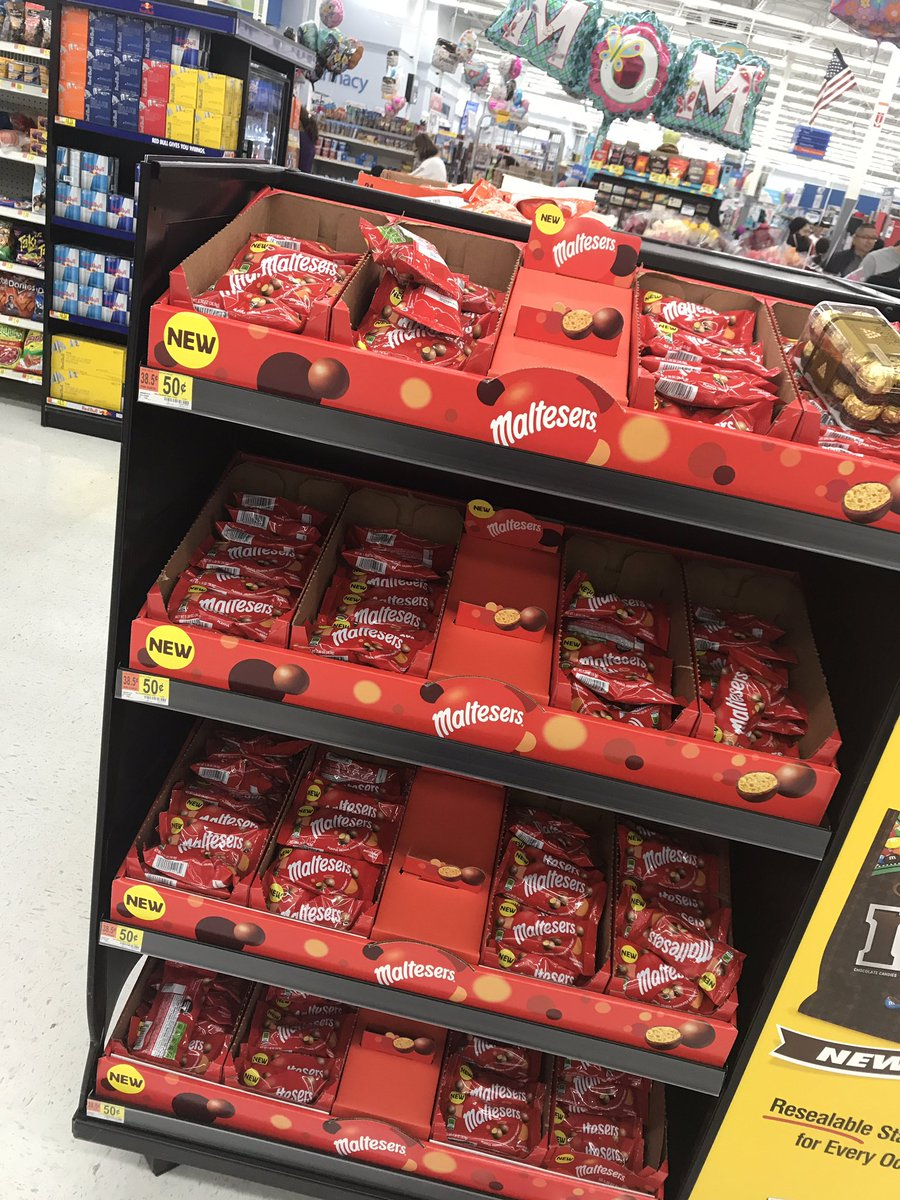Malteasers: (426, 672, 533, 756), (147, 804, 248, 864), (166, 587, 273, 642), (499, 901, 581, 971), (449, 1093, 525, 1165), (278, 840, 371, 894), (312, 617, 412, 666), (643, 925, 711, 997), (240, 243, 340, 286)
